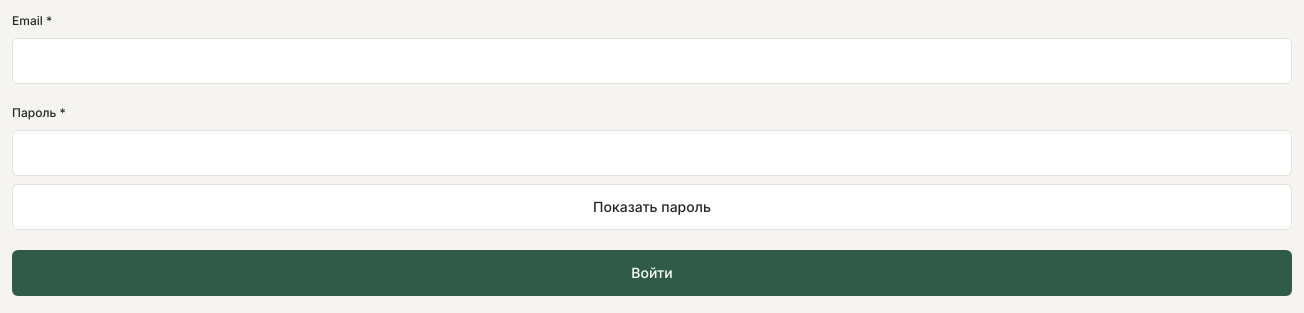
login form › disables all fields and avoids repeated submission while pending
Type "employee@example.test" into the field labelled "Email *" at (652, 61), box [12, 38, 1292, 84]
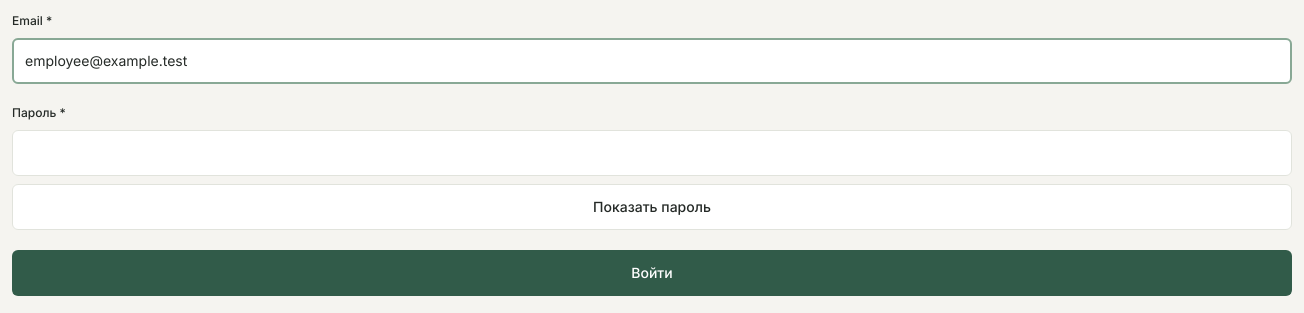
Type "test-secret" into the password field labelled "Пароль *" at (652, 153), box [12, 130, 1292, 176]
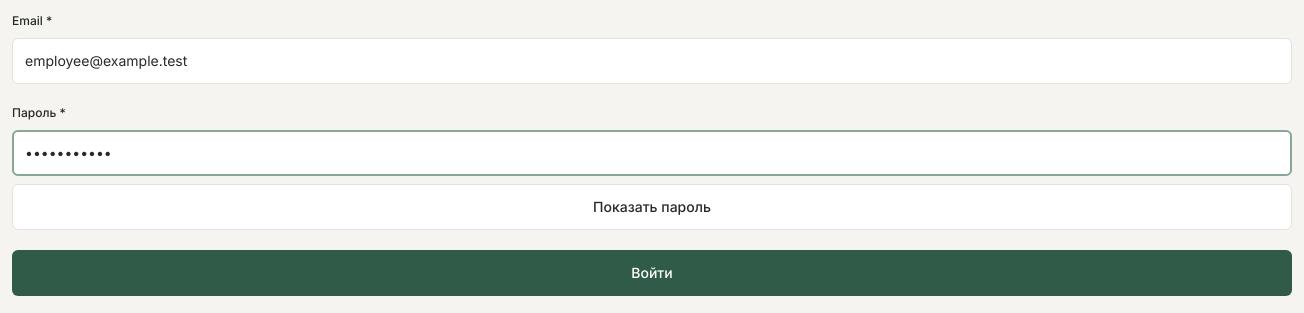
Click the button "Войти" at (652, 273), box [12, 250, 1292, 296]
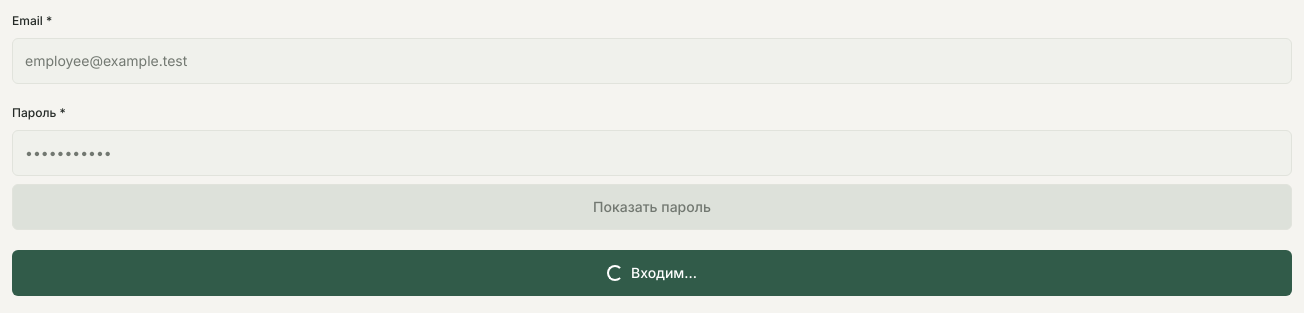
Result: the field labelled "Email *" is disabled at [12, 38, 1292, 84]
Result: the password field labelled "Пароль *" is disabled at [12, 130, 1292, 176]
Result: the button "Входим…" is disabled at [12, 250, 1292, 296]
Press Enter
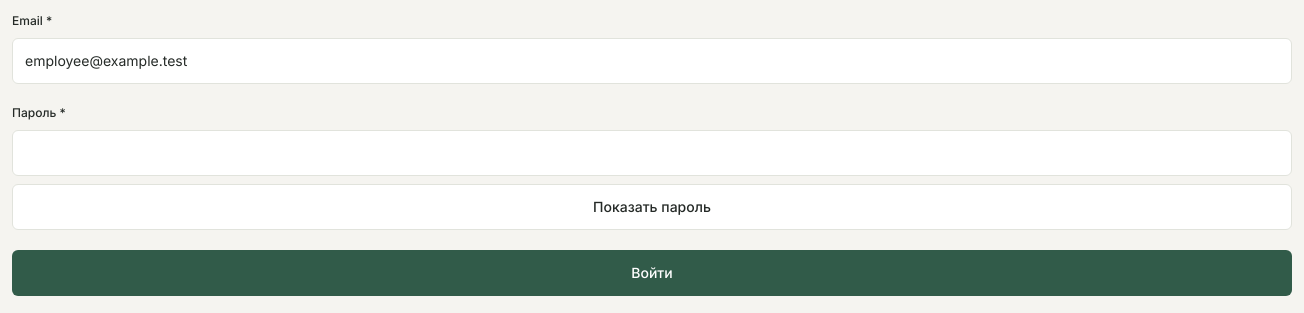
Result: the button "Войти" is enabled at [12, 250, 1292, 296]
Result: the password field labelled "Пароль *" is empty at [12, 130, 1292, 176]
